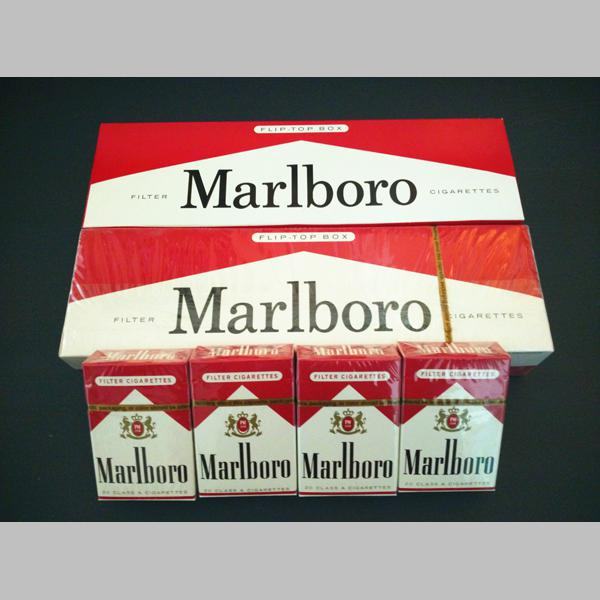marlboro_red: (296, 362, 399, 492), (92, 366, 194, 497), (193, 364, 292, 497), (402, 361, 499, 492)
